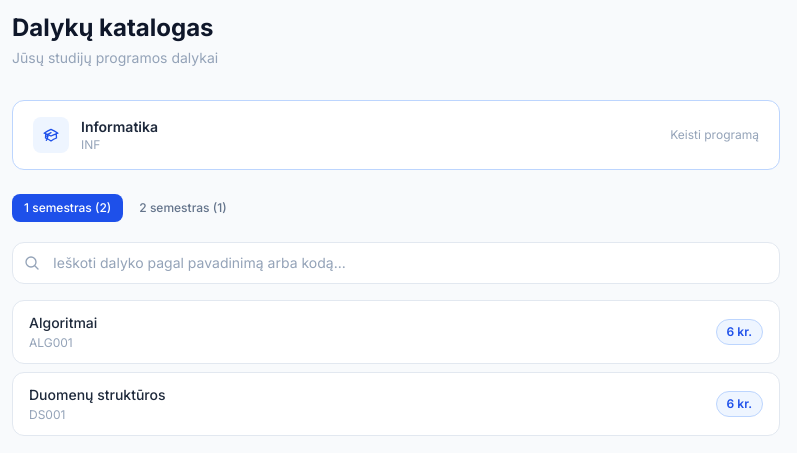
it: SubjectsCatalogPage: paieška › paieška išvaloma paspaudus X mygtuką
Expected: the text "Algoritmai" is shown, x1=29 y1=313 x2=97 y2=333
Type "Algorit" into the field with placeholder "Ieškoti dalyko pagal pavadinimą arba kodą...".
click(396, 263); type("Algorit")  # box x1=12 y1=242 x2=780 y2=284
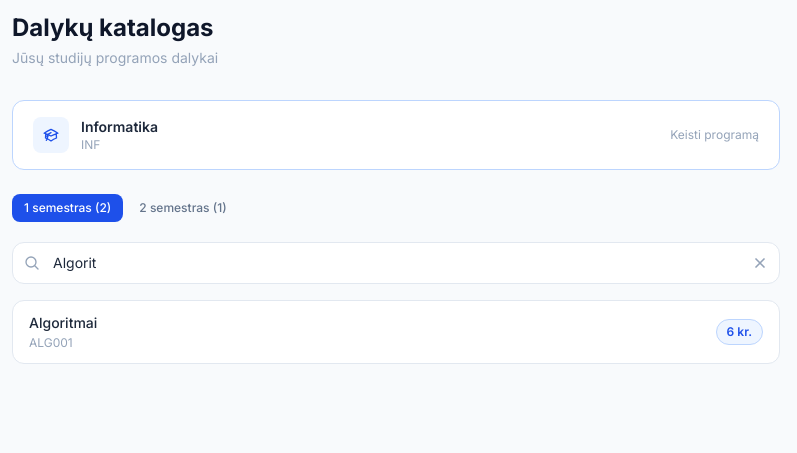
Expected: the text "Duomenų struktūros" is gone
Click the 3rd button.
click(760, 263)  # box x1=752 y1=255 x2=768 y2=271
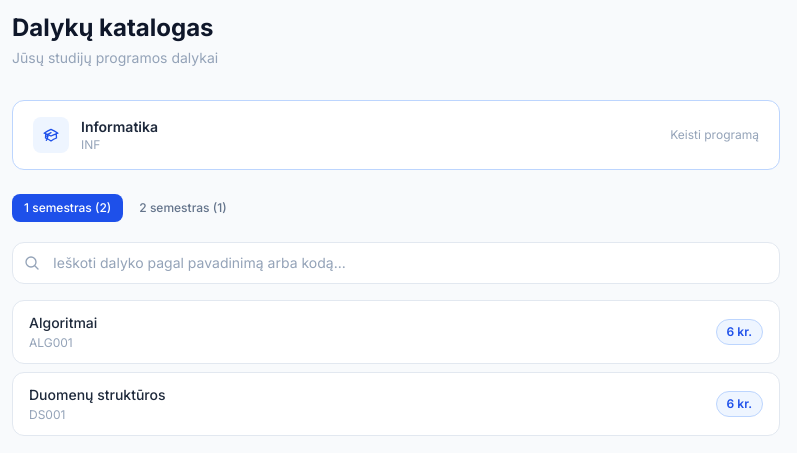
Expected: the text "Duomenų struktūros" is shown, x1=29 y1=385 x2=166 y2=405
